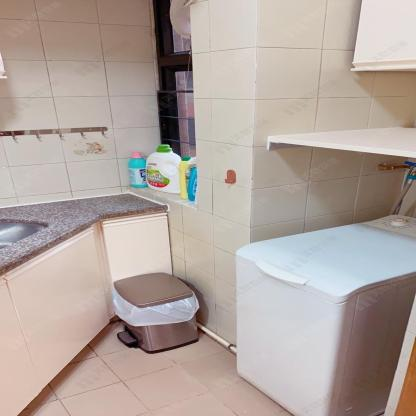Sink: (0, 207, 101, 276)
Washing Machine: (234, 214, 416, 416)
